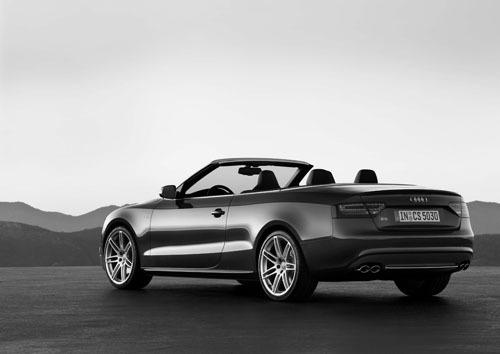car: (99, 157, 479, 307)
